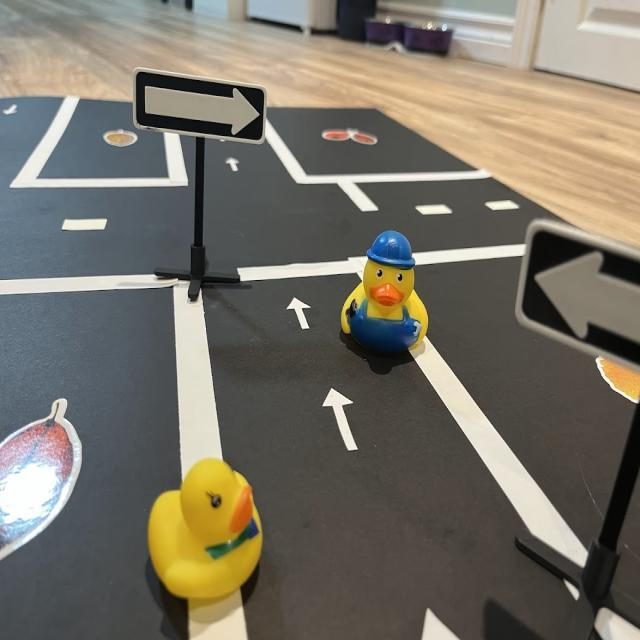duck_regular: (148, 459, 264, 616)
duck_specialty: (340, 232, 430, 368)
road_oneway: (322, 384, 364, 459), (413, 604, 472, 640), (285, 291, 315, 338), (223, 157, 246, 176), (1, 100, 22, 117)
sign_oneway_left: (515, 215, 640, 378)
sign_oneway_right: (131, 66, 269, 149)
